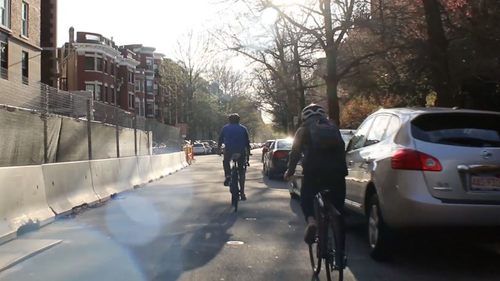bikerider: (278, 100, 358, 281), (206, 106, 264, 217)
